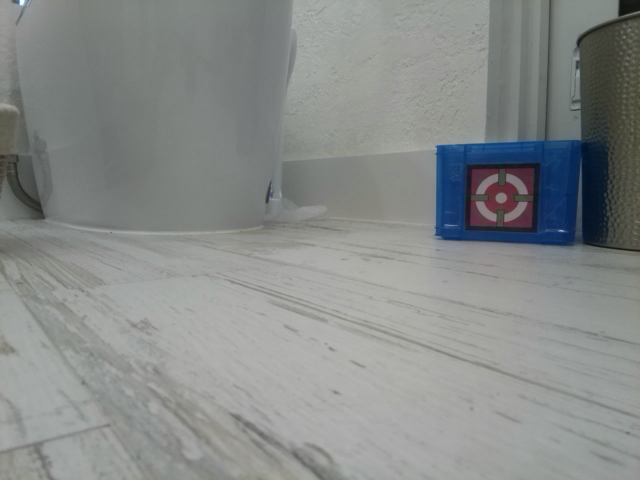drop-bin: (464, 162, 540, 233)
